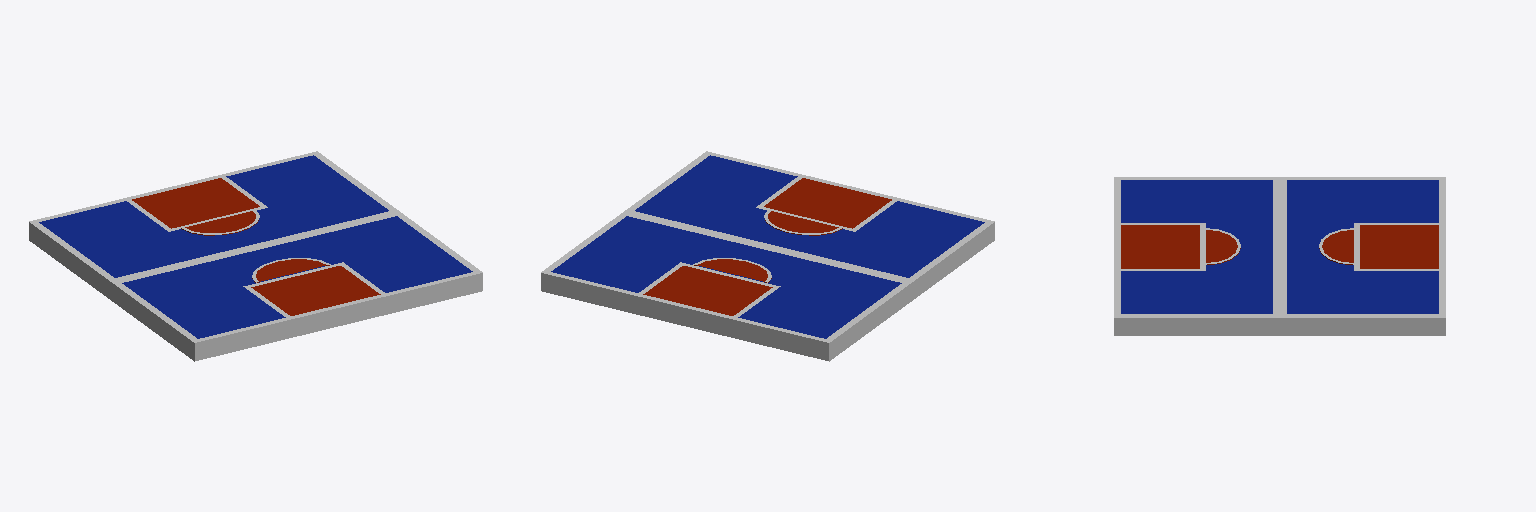
Rendered from basketball_court.obj.
3 views of the same model, side by side, from view 1: azimuth 30°, elevation 25°; view 2: azimuth 150°, elevation 25°; view 3: azimuth 270°, elevation 25° (orthographic).
Visible parts, largest first — view 1: basketball_court_mini; view 2: basketball_court_mini; view 3: basketball_court_mini.
Boxes of the visible parts, x1=… form: basketball_court_mini: x1=29, y1=151, x2=482, y2=361; basketball_court_mini: x1=541, y1=151, x2=994, y2=361; basketball_court_mini: x1=1114, y1=177, x2=1445, y2=335.
Size of the model in its own units: 3.85 by 0.2452 by 3.83.